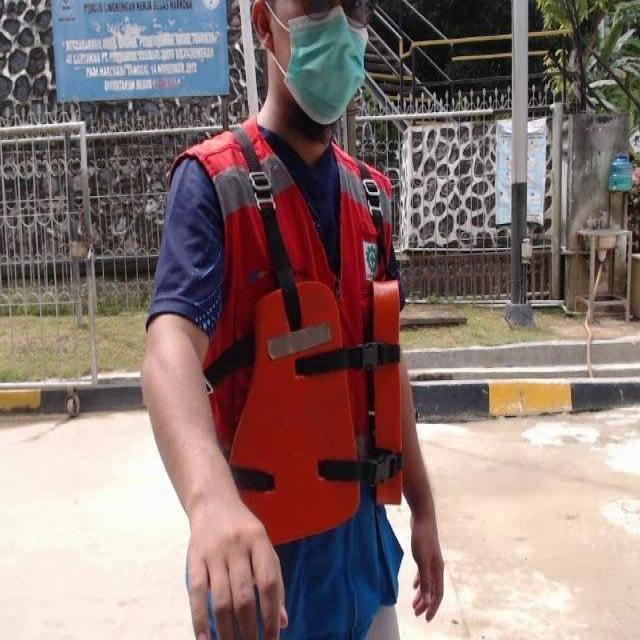Vest: (226, 270, 407, 550)
